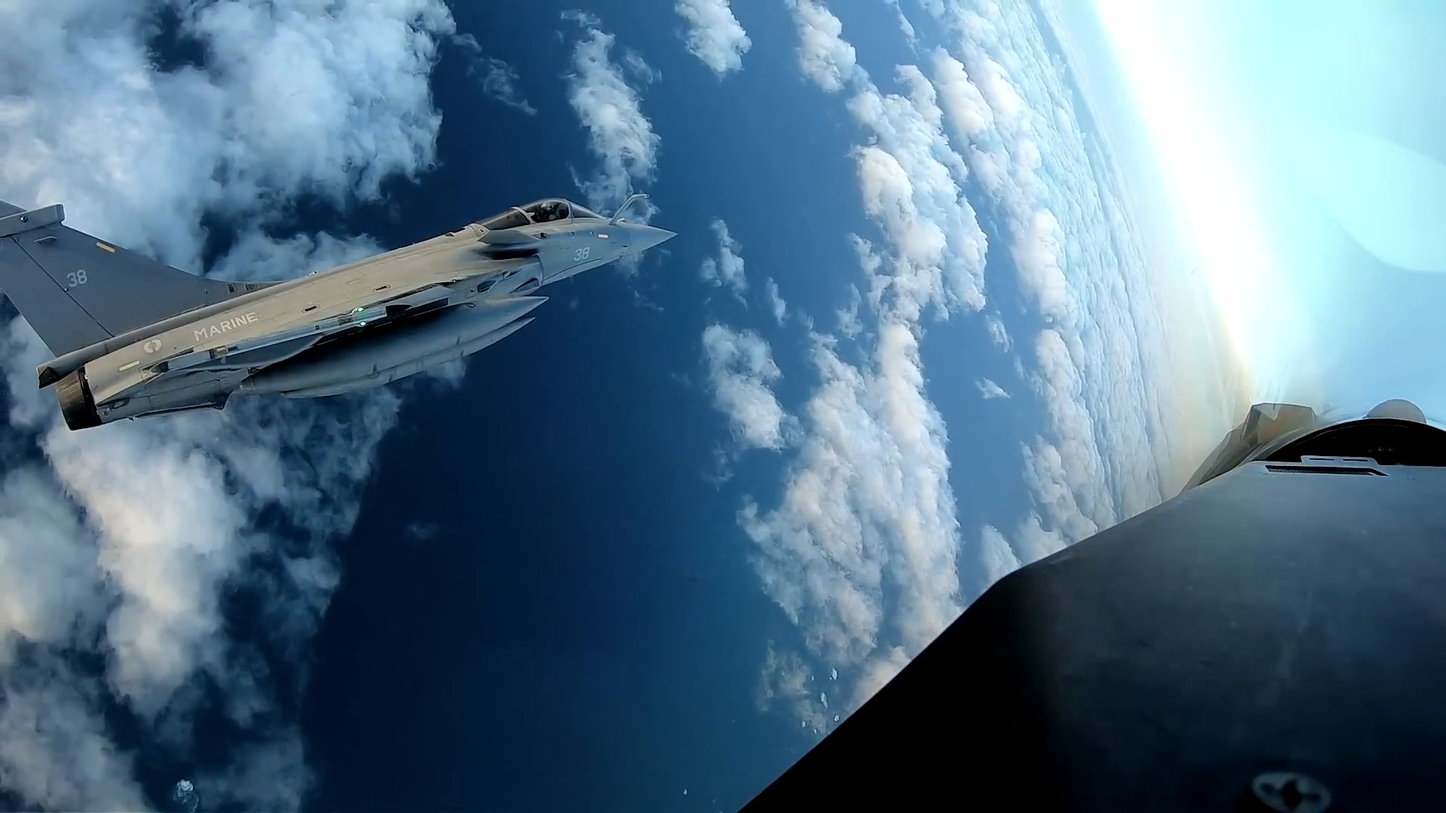Rafale: (0, 191, 678, 431)
